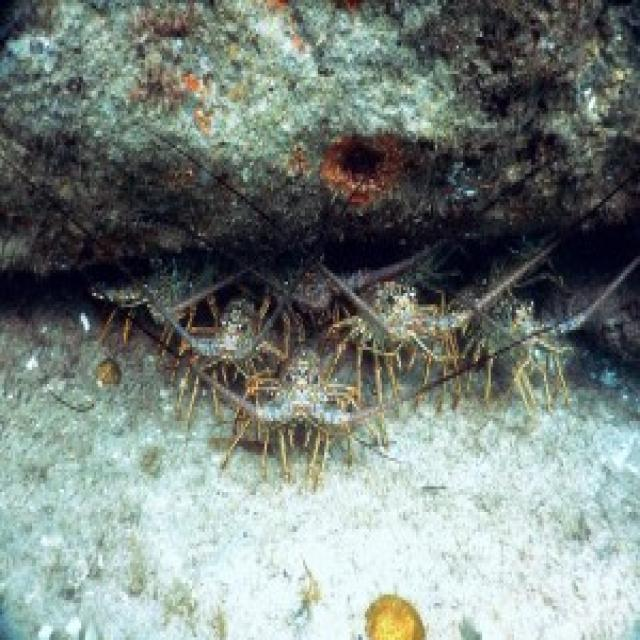lobsters: (233, 323, 379, 475), (338, 276, 481, 418), (526, 215, 640, 392), (424, 225, 577, 347), (162, 289, 286, 435), (480, 287, 576, 417), (270, 262, 365, 368), (88, 269, 187, 359), (356, 278, 434, 356), (284, 268, 339, 322), (88, 276, 156, 312)
